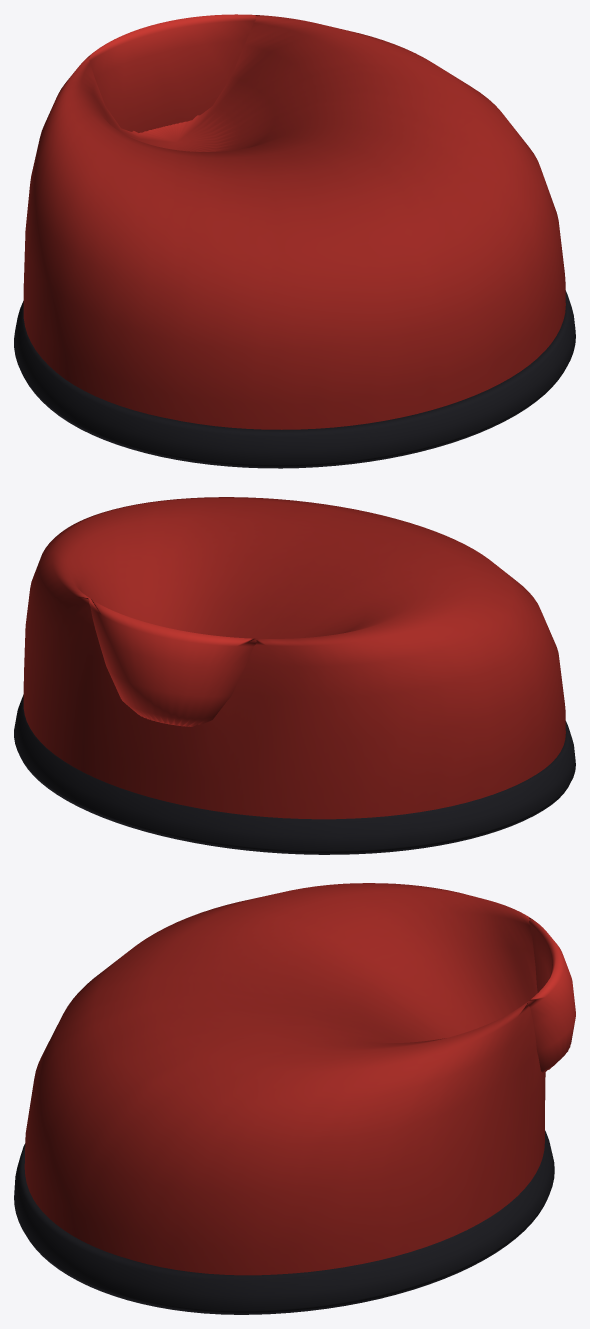
The model's file is hw_stocking.glb.
The picture shows the model from 3 angles, top to bottom: view 1: azimuth 30°, elevation 25°; view 2: azimuth 150°, elevation 25°; view 3: azimuth 270°, elevation 25°; orthographic projection. The views are drawn at different scales.
Parts seen in each view (by area): view 1: hw_stocking, hw_stocking_rim; view 2: hw_stocking, hw_stocking_rim; view 3: hw_stocking, hw_stocking_rim.
Part boxes in pixels (x1,y1,x2,y2): hw_stocking: (23,14,565,429); hw_stocking_rim: (14,290,575,468); hw_stocking: (23,497,565,819); hw_stocking_rim: (14,694,575,854); hw_stocking: (24,883,575,1275); hw_stocking_rim: (14,1130,554,1314).
Size of the model in its own units: 0.913 by 0.4173 by 0.8628.
